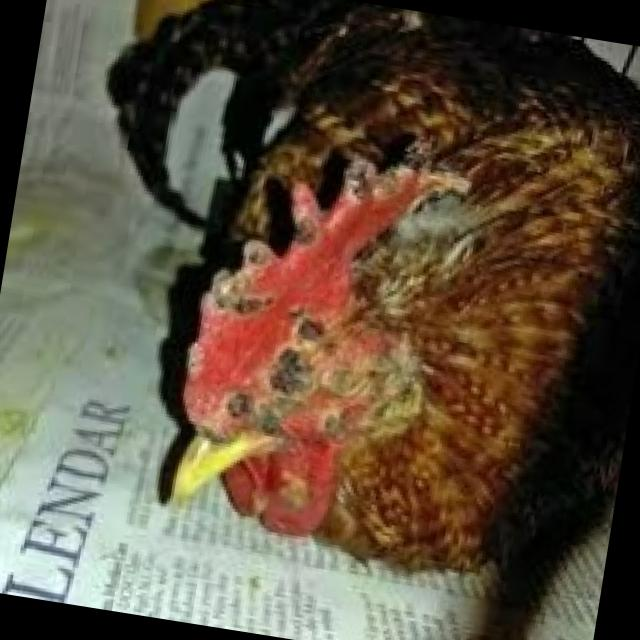Fowlpox: (162, 106, 489, 547)
